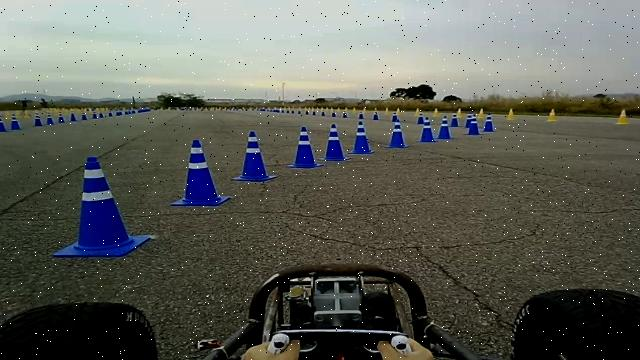blue cone: (52, 156, 152, 257), (170, 139, 231, 206), (230, 130, 278, 182), (285, 126, 324, 168), (319, 123, 351, 161), (348, 120, 374, 154), (383, 122, 409, 148), (415, 118, 438, 142), (437, 115, 454, 139), (464, 120, 483, 135), (482, 113, 496, 132), (464, 113, 477, 128), (10, 114, 20, 130), (449, 114, 459, 127), (33, 114, 43, 126), (391, 112, 400, 123), (0, 119, 7, 132), (57, 112, 65, 123), (69, 112, 77, 122), (46, 116, 54, 125), (372, 112, 379, 121), (81, 113, 88, 120)
yellow cone: (616, 109, 629, 124), (546, 108, 557, 122), (476, 107, 486, 118), (506, 108, 515, 120), (455, 107, 463, 117), (432, 107, 440, 116), (414, 106, 421, 116), (395, 106, 401, 115)
